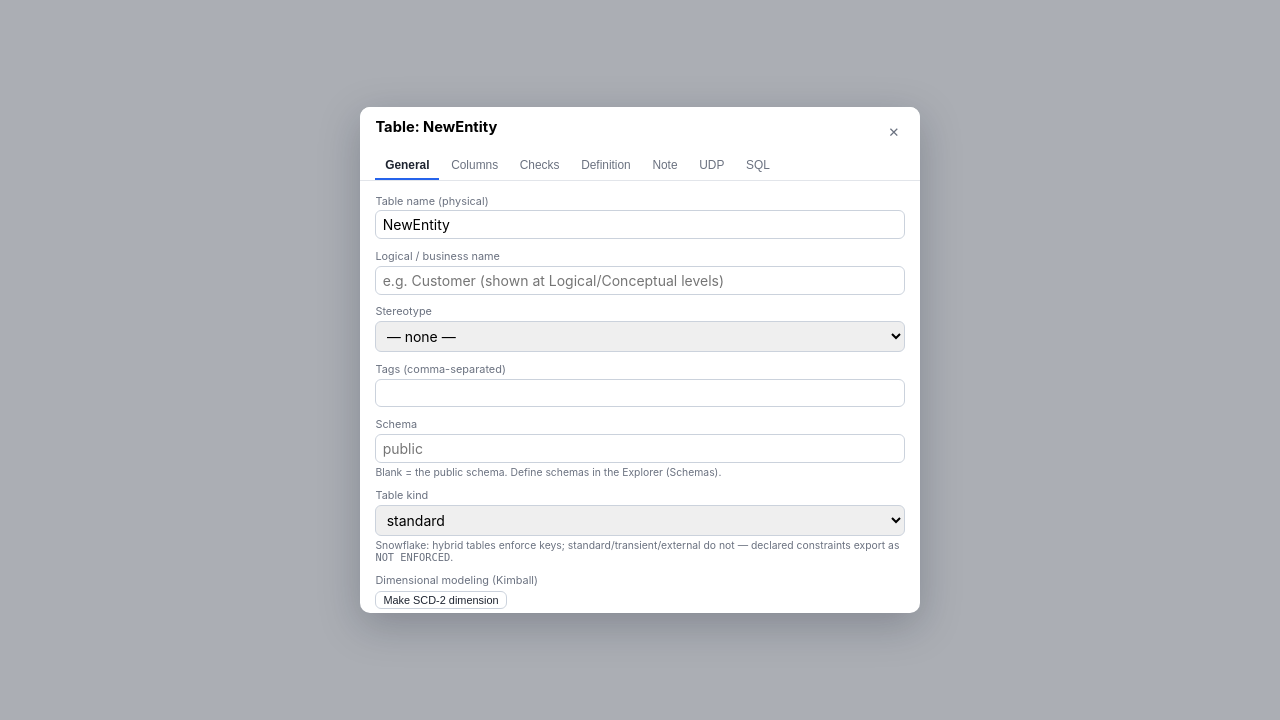
Test case: level-aware field editor › shows the physical grid columns at Physical
The width and height of the screenshot is (1280, 720).
What coordinates should you click on to do the following:
click the button with class "tab-btn" showing "Columns"
I would click on:
 (475, 166)
Its box is [441,153,508,180].
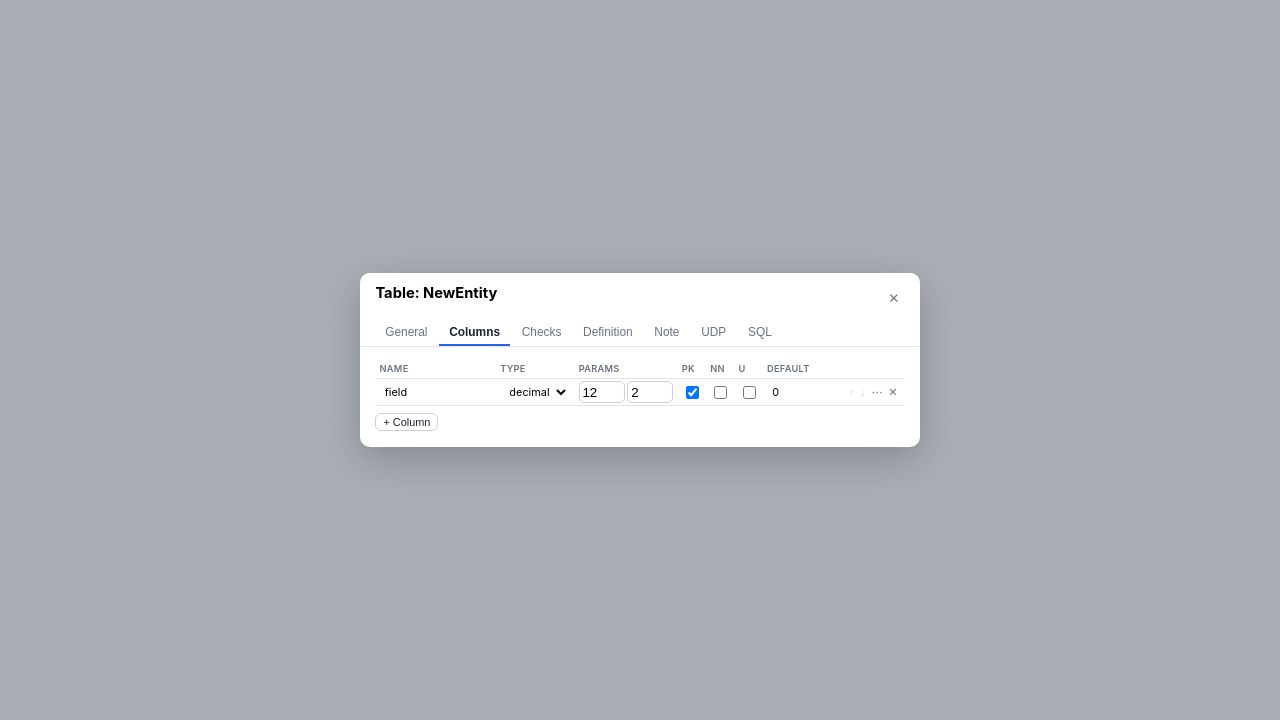
Result: the text "Params" is shown at [574,360,678,378]
Result: the text "Default" is shown at [763,360,842,378]
